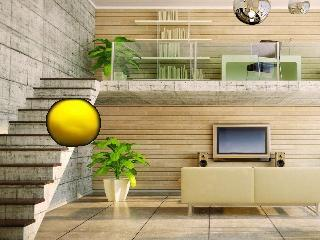lemon: (47, 100, 99, 146)
